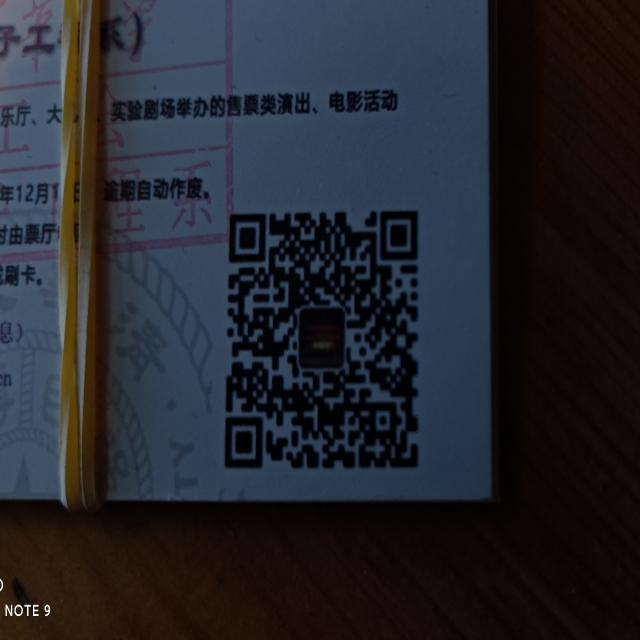qr_code: (226, 210, 420, 470)
